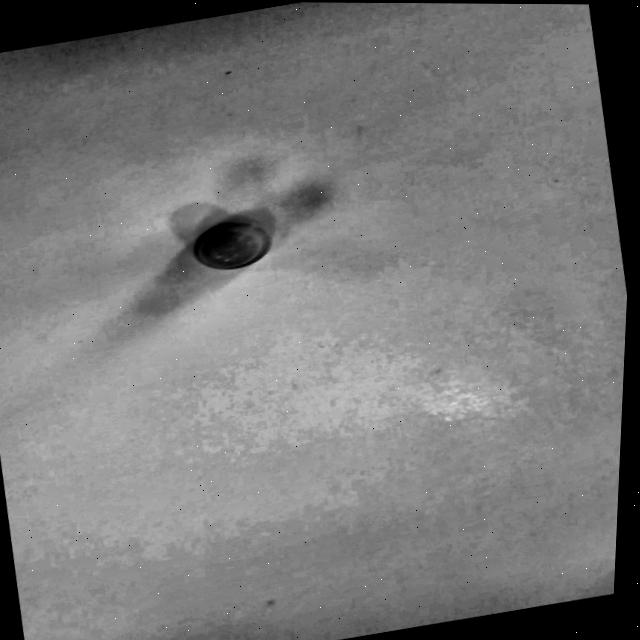white-pawn: (176, 185, 321, 297)
